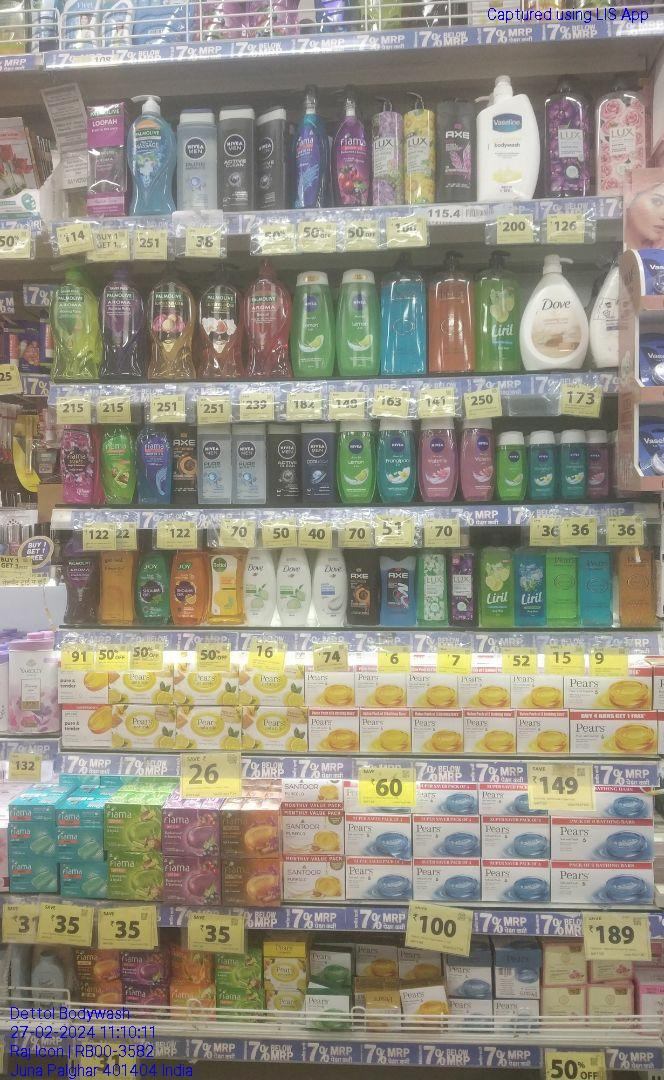Dettol_Bodywash_Refresh: (207, 549, 242, 628)
Dove_Gentle_Exfoliating_Body_Wash_250ML: (314, 546, 347, 628)
Dove_Refreshing_Body_Wash_250ML: (278, 546, 311, 628), (245, 544, 273, 628)
Fiama_Shower_Gel_Lemongrass_and_Jojoba_250ML: (101, 422, 136, 505)
Get_Real_Shower_Gel_Moisturising_Glycerin_300ML: (100, 550, 133, 626)
Joy_Shower_Gel_Mandarin_and_Lemongrass_250ML: (170, 551, 207, 626)
Joy_Shower_Gel_Mint_and_Eucalyptus_250ML: (137, 538, 170, 627)
Liril_Cooling_Mint_Body_Wash_250ML: (514, 537, 543, 628)
Liril_Lime_and_Tea_Tree_Oil_Body_Wash_250ML: (480, 533, 513, 630)
Lux_Black_Orchid_Scent_and_Juniper_Oil_Body_Wash_245ML: (449, 534, 476, 629)
Lux_Body_Wash_Skin_Detox_Freesia_Scent_and_Alove_Vera_245ML: (417, 549, 447, 628)
Nivea_Shower_Gel_Frangipani_and_Oil_250ML: (378, 418, 414, 501), (528, 429, 557, 503), (559, 430, 587, 501)
Nivea_Shower_Gel_Lemon_and_Oil_250ML: (339, 265, 379, 377), (294, 268, 335, 377), (341, 421, 375, 505), (496, 428, 526, 502)
Nivea_Shower_Gel_Waterlily_and_Oil_250ML: (417, 420, 458, 502), (463, 418, 494, 501), (588, 427, 609, 498)
Palmolive_Aroma_Relax_250ML: (62, 539, 96, 627)
Pears_Pure_Glycerin_and_Lemon_Flower_Extracts_Body_Wash_250ML: (546, 546, 577, 628)
Pears_Pure_Glycerin_and_Mint_Extracts_Body_Wash_250ML: (577, 545, 612, 628)
